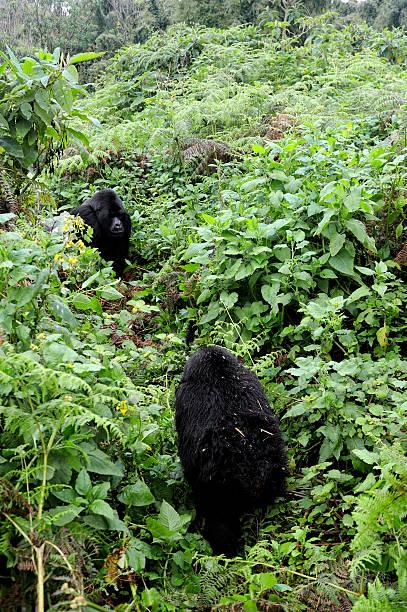goriile_montagne: (155, 332, 318, 551), (62, 185, 154, 280)
